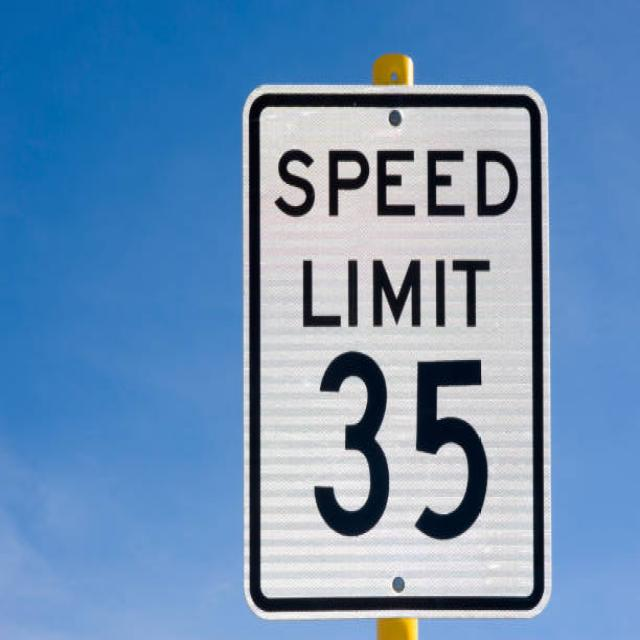speedLimit35: (234, 60, 567, 631)
